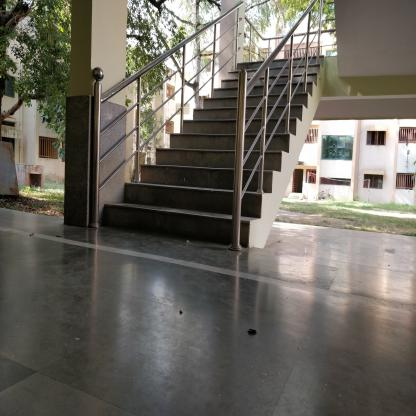stairs: (172, 134, 230, 249)
